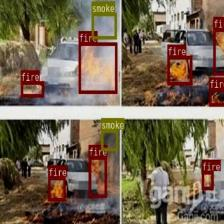fire: (78, 42, 117, 93), (88, 156, 106, 197), (167, 55, 191, 85), (213, 28, 224, 74), (48, 176, 65, 200), (20, 80, 43, 96), (208, 87, 224, 105), (201, 171, 213, 189)
smoke: (92, 12, 116, 38), (100, 129, 118, 150)
